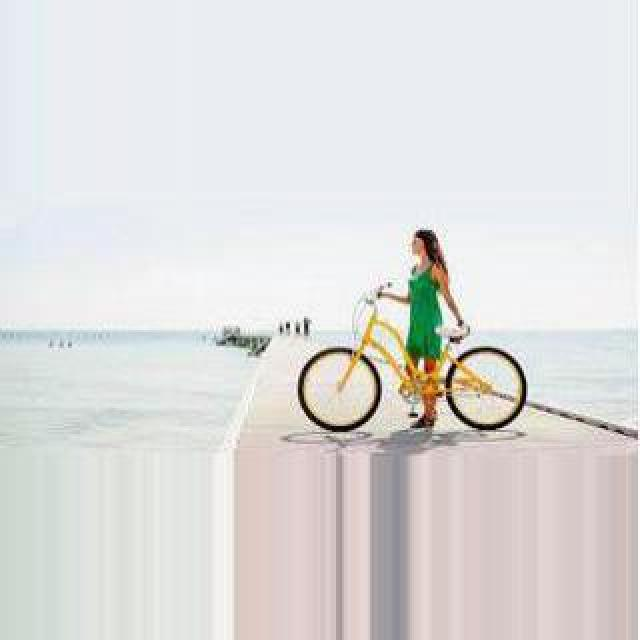MC-Bike: (394, 226, 468, 432)
Person: (298, 288, 530, 434)
